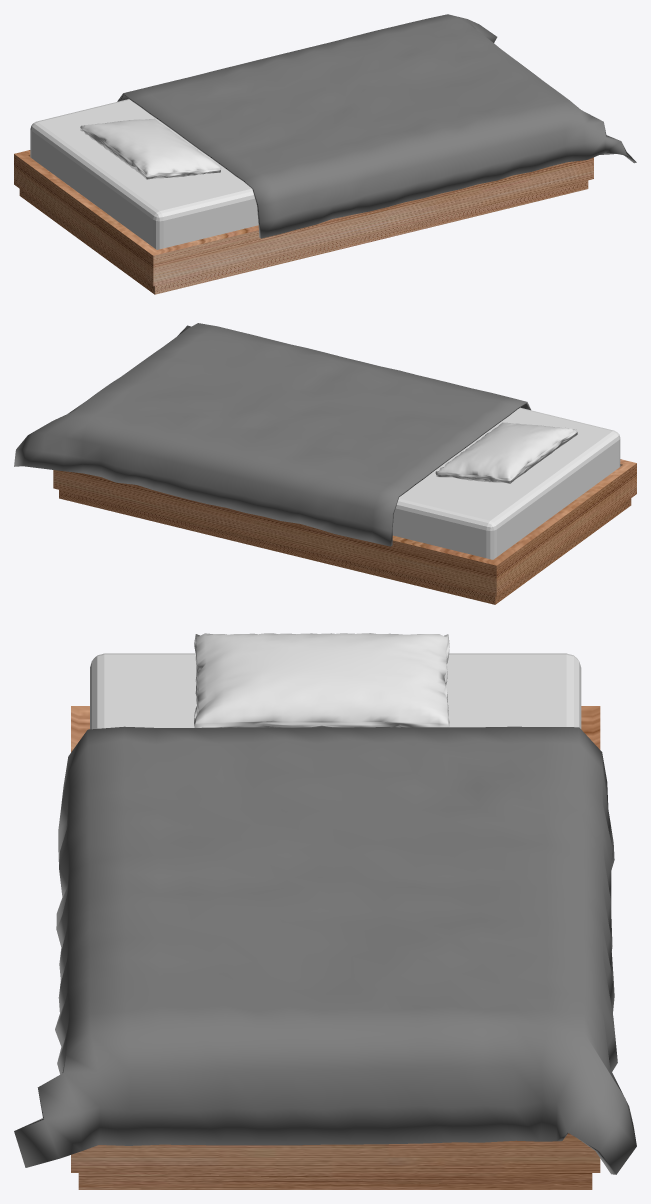
Rendered from bed_test.glb.
3 renders of one model, top to bottom at view 1: azimuth 30°, elevation 25°; view 2: azimuth 150°, elevation 25°; view 3: azimuth 270°, elevation 25°, orthographic. The views are drawn at different scales.
Parts seen in each view (by area): view 1: Plane.001, Cube.001, Cube.002, Cube.003; view 2: Plane.001, Cube.001, Cube.002, Cube.003; view 3: Plane.001, Cube.001, Cube.003, Cube.002.
Part boxes in pixels (x1,y1,x2,y2): Plane.001: (117, 14, 636, 238); Cube.001: (14, 150, 593, 294); Cube.002: (30, 99, 258, 249); Cube.003: (80, 118, 221, 179); Plane.001: (14, 323, 530, 546); Cube.001: (53, 459, 636, 604); Cube.002: (392, 407, 620, 559); Cube.003: (435, 422, 577, 483); Plane.001: (14, 726, 636, 1174); Cube.001: (71, 706, 600, 1189); Cube.003: (194, 633, 449, 727); Cube.002: (90, 653, 581, 729).
Size of the model in its own units: 5.5 by 1.09 by 3.27.
Materials: 2 (1 with a texture image).
